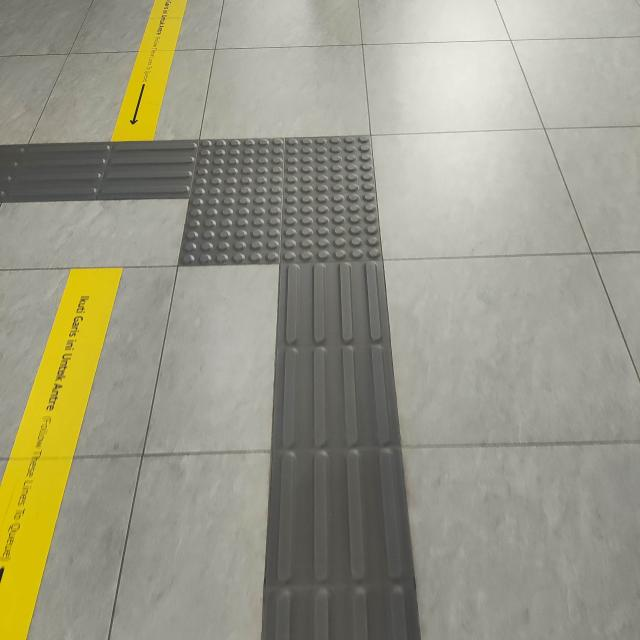kiri: (18, 82, 443, 324)
